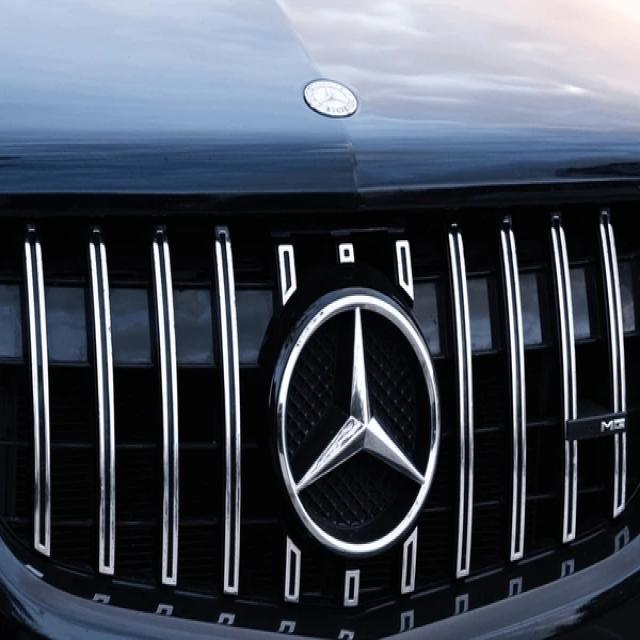mercedes: (271, 286, 441, 558)
